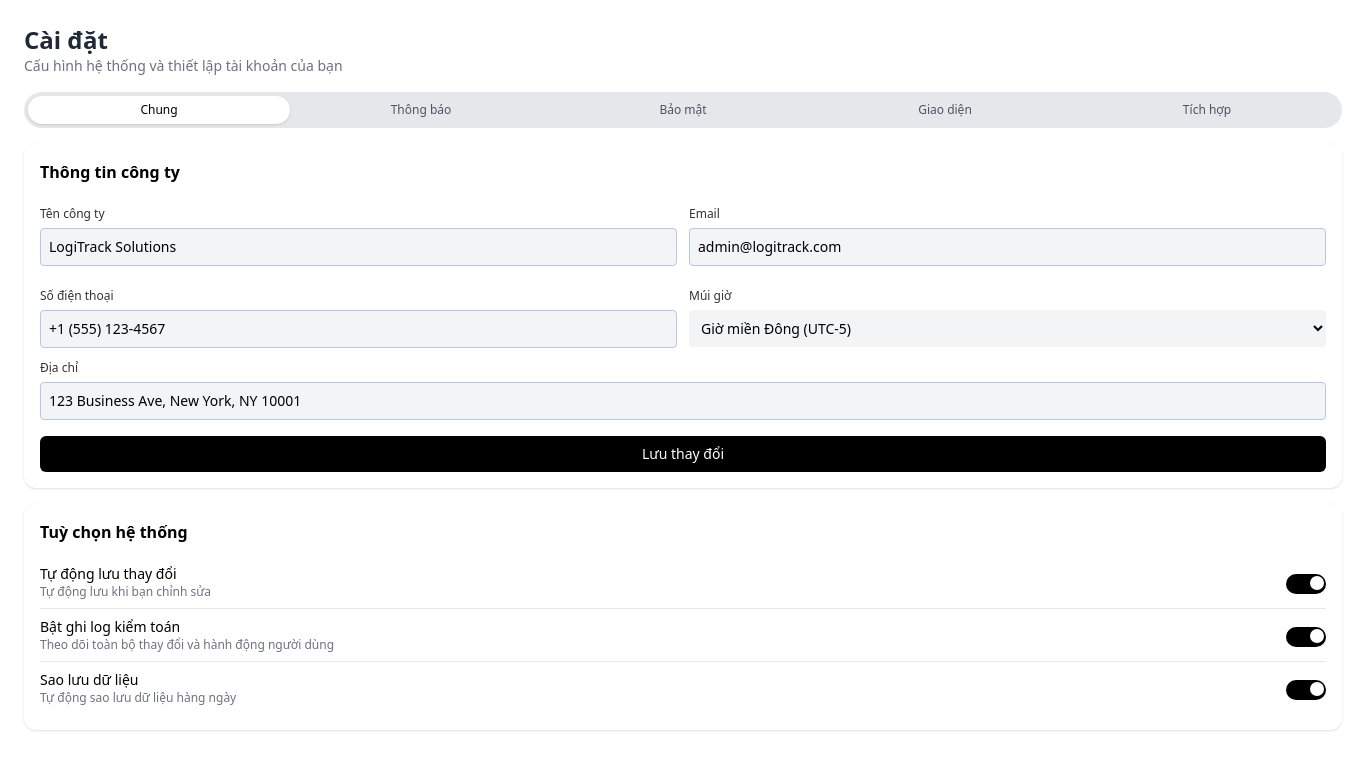
Test: SettingsContent Component (Admin Settings) › nên chuyển sang tab Tích hợp và hiển thị trạng thái API
Click the button "Tích hợp" at coordinates (1207, 110), box [1076,96,1338,124]
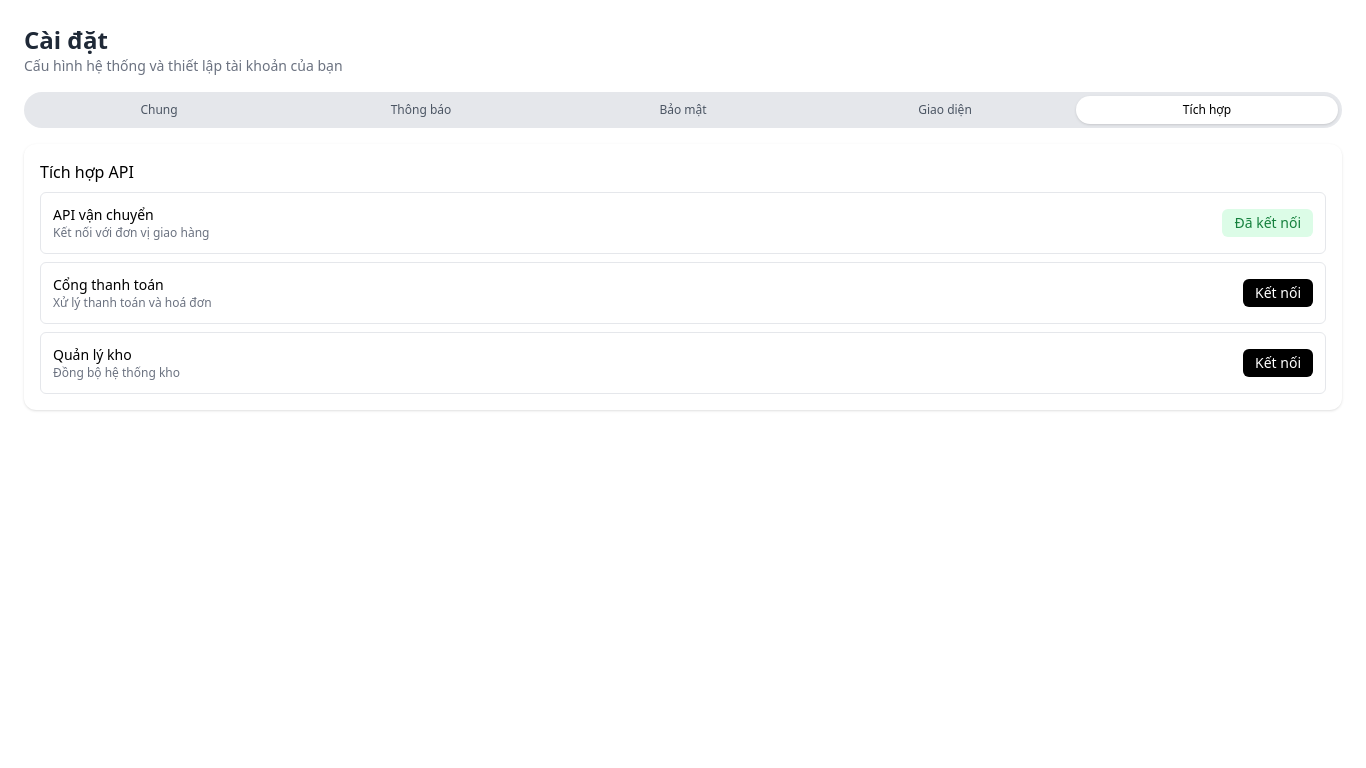
expect the text "API vận chuyển" is shown: met, box [53,205,154,224]
expect the button "Đã kết nối" is shown: met, box [1222,209,1313,237]
expect the button "Kết nối" in the row of "Xử lý thanh toán và hoá đơn" is shown: met, box [1243,279,1313,307]
